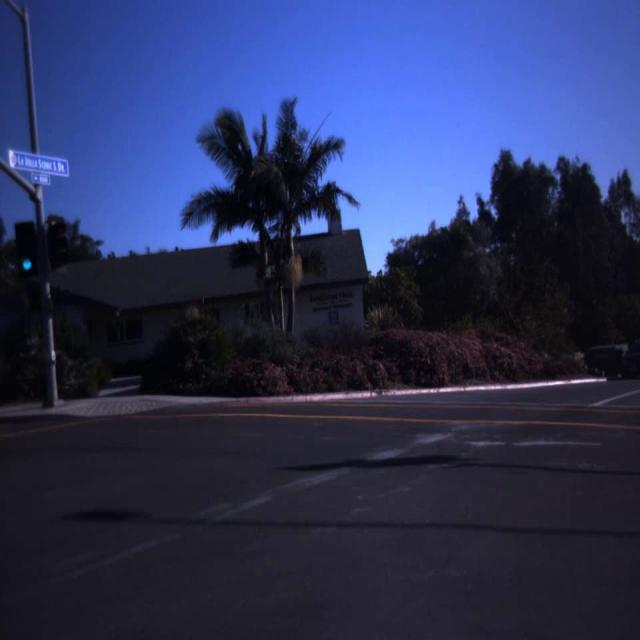yesil: (14, 221, 38, 279)
